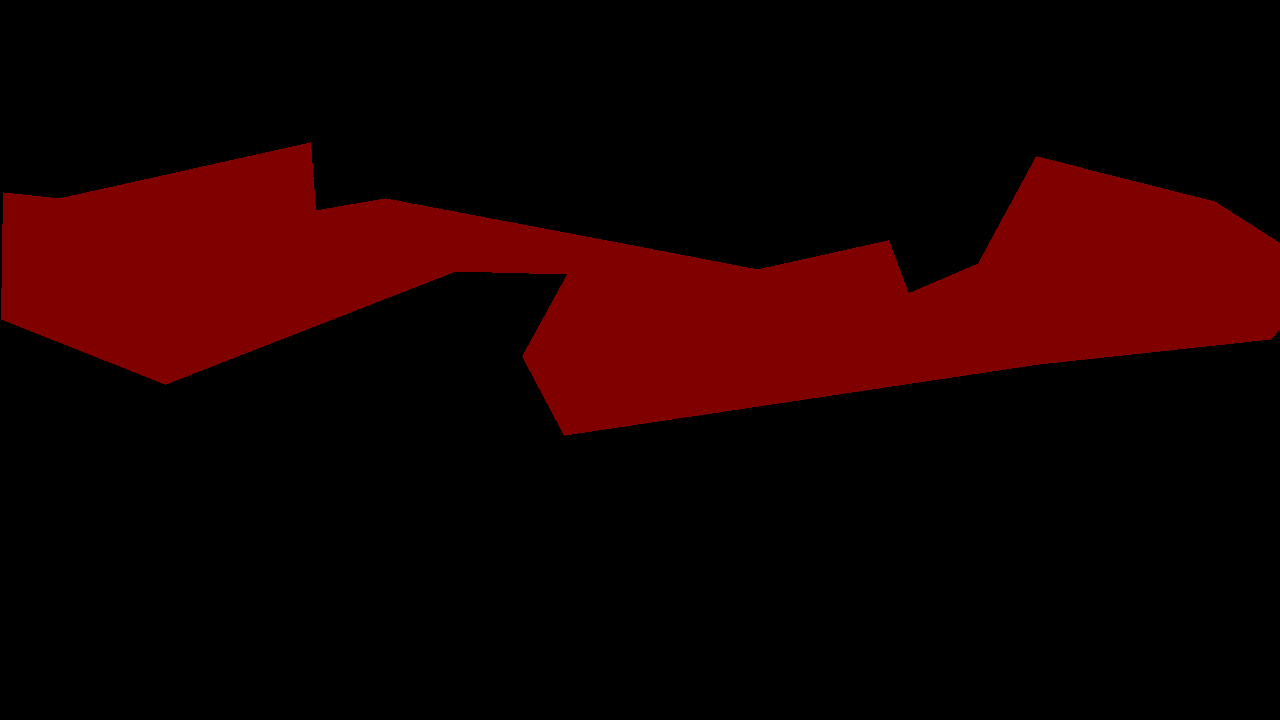fire: (1, 142, 1280, 435)
